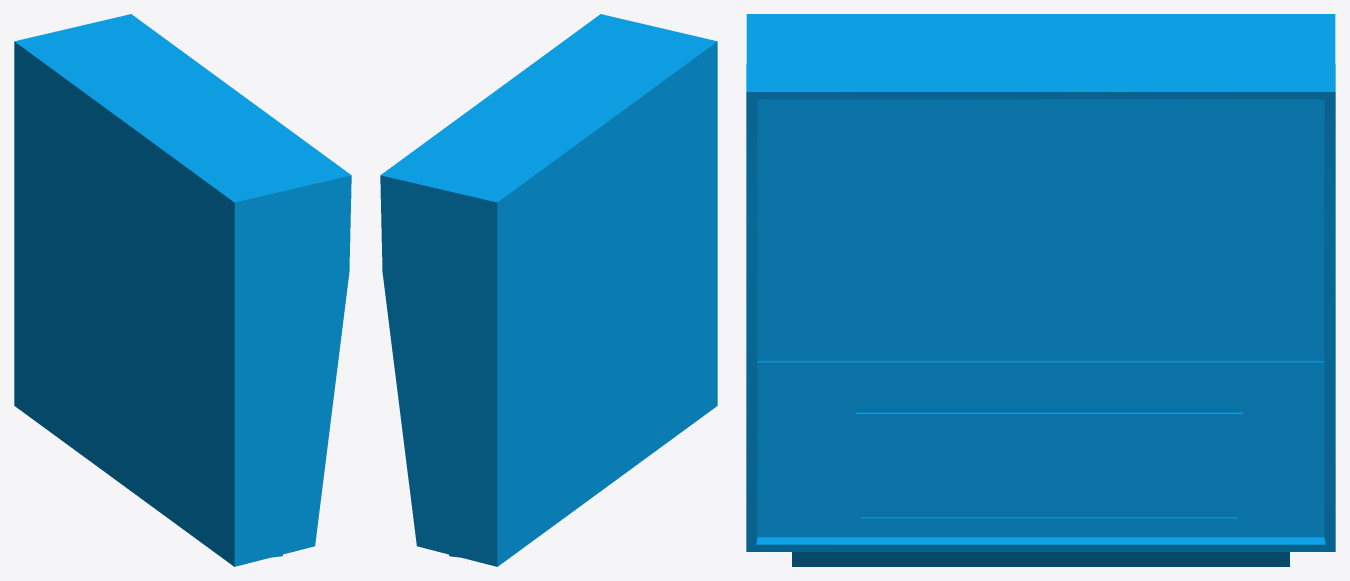
File: Cabinet_ScoreDisplay.fbx
3 renders of one model, left to right at view 1: azimuth 30°, elevation 25°; view 2: azimuth 150°, elevation 25°; view 3: azimuth 270°, elevation 25°, orthographic. The views are drawn at different scales.
Parts seen in each view (by area): view 1: Cabinet_ScoreDisplay; view 2: Cabinet_ScoreDisplay; view 3: Cabinet_ScoreDisplay.
Boxes of the visible parts, bbox=[...] form: Cabinet_ScoreDisplay: bbox=[14, 14, 351, 566]; Cabinet_ScoreDisplay: bbox=[380, 14, 717, 566]; Cabinet_ScoreDisplay: bbox=[746, 14, 1335, 566].
Size of the model in its own units: 0.5751 by 1.79 by 1.88.
